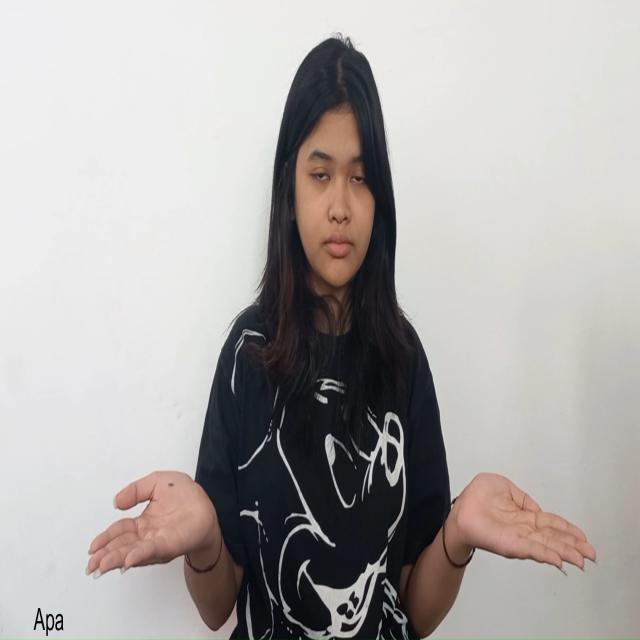Apa -BISINDO-: (84, 466, 599, 590)
